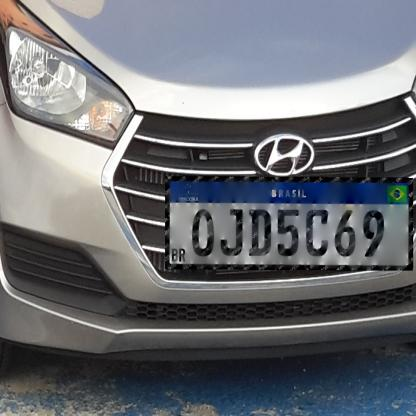PlacaM: (165, 176, 413, 271)
